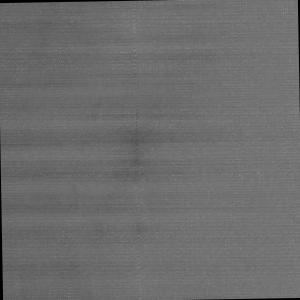Wrinkle: (1, 86, 265, 292)
